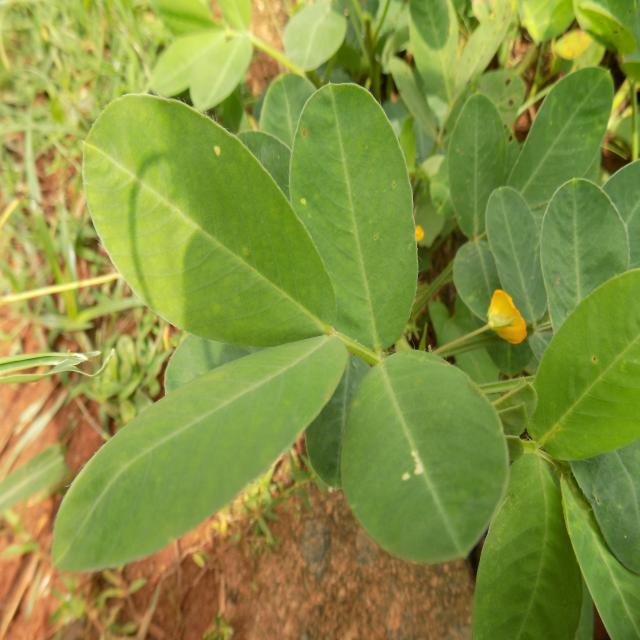Ground nut_healthy: (81, 93, 342, 351), (47, 354, 350, 570), (334, 353, 516, 570), (287, 81, 423, 356), (532, 269, 640, 462), (516, 62, 604, 214), (476, 172, 549, 326), (444, 93, 512, 258)
